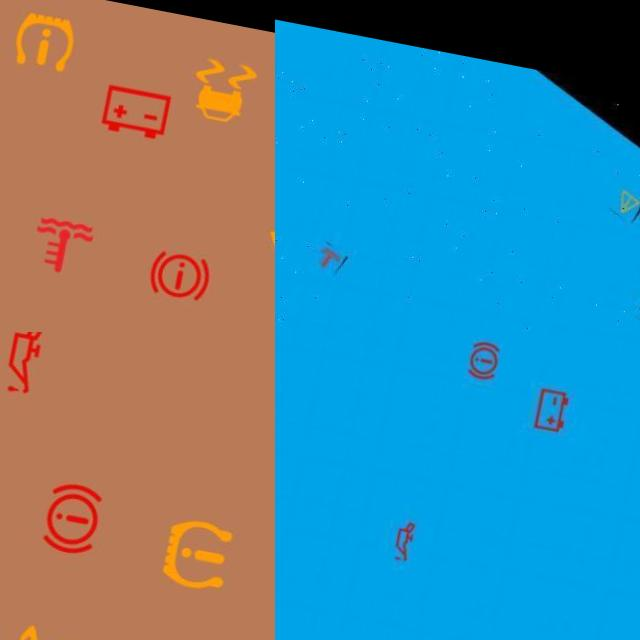High Engine Coolant Temperature: (29, 188, 117, 276)
